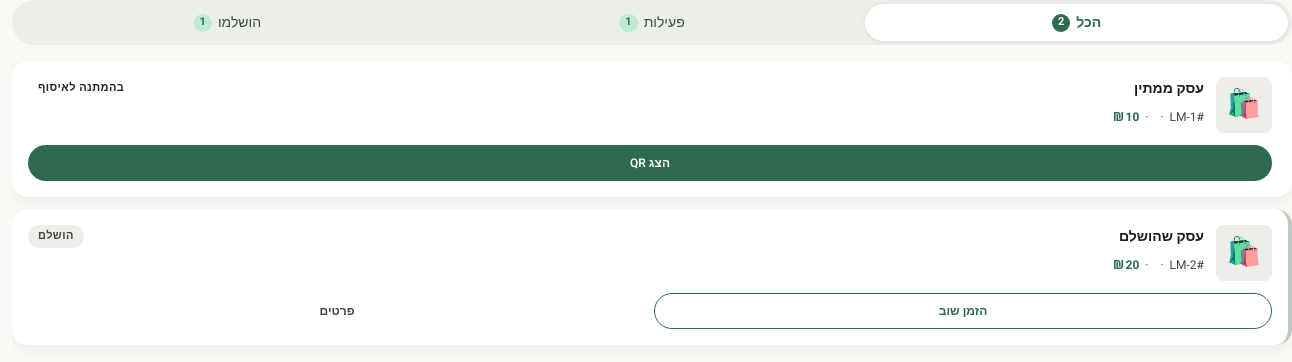
Test: OrderHistoryList › the "הושלמו" tab shows only completed orders
This screenshot has width=1292, height=362.
Click the tab "הושלמו 1". click: (227, 22)
box: 16,4 -> 439,41
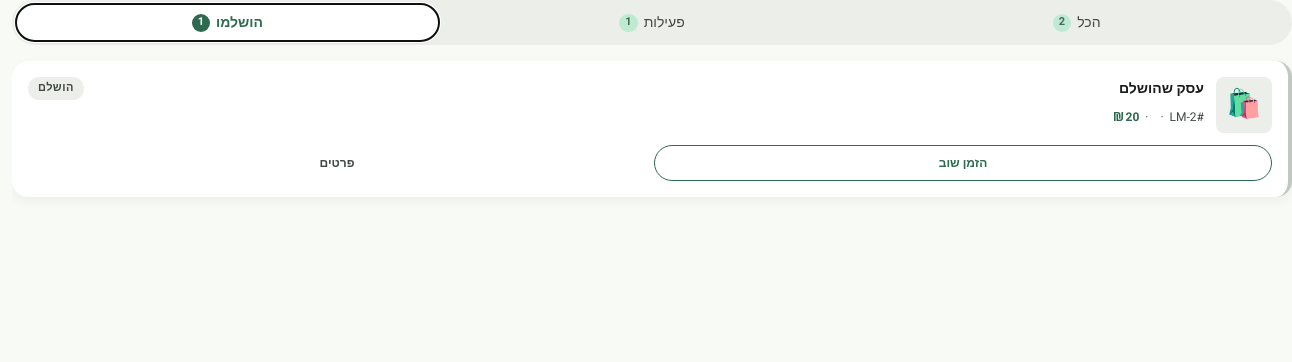
Expected: the heading "עסק שהושלם" is shown, 1119,78 -> 1204,99
Expected: the heading "עסק ממתין" is gone
